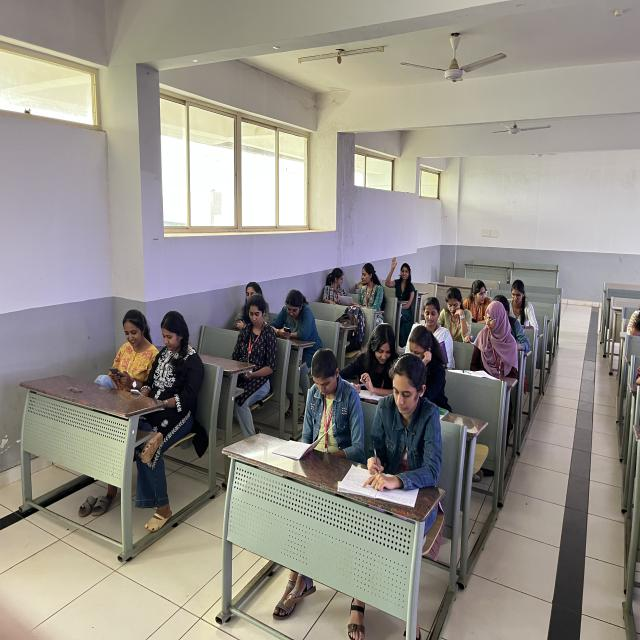Hand Rising: (384, 247, 424, 316)
Reading: (356, 317, 395, 408), (416, 291, 461, 369)
Using Phone: (130, 295, 212, 435), (91, 273, 152, 404), (300, 340, 366, 455), (235, 294, 278, 378), (270, 283, 318, 350)
Writing: (349, 358, 438, 492)
